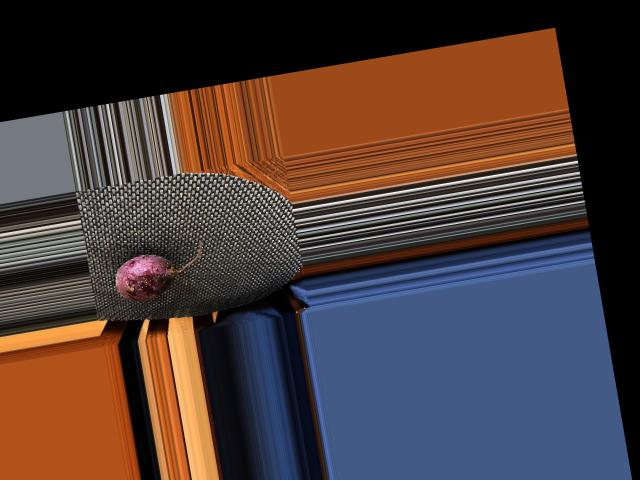beet: (111, 239, 210, 305)
